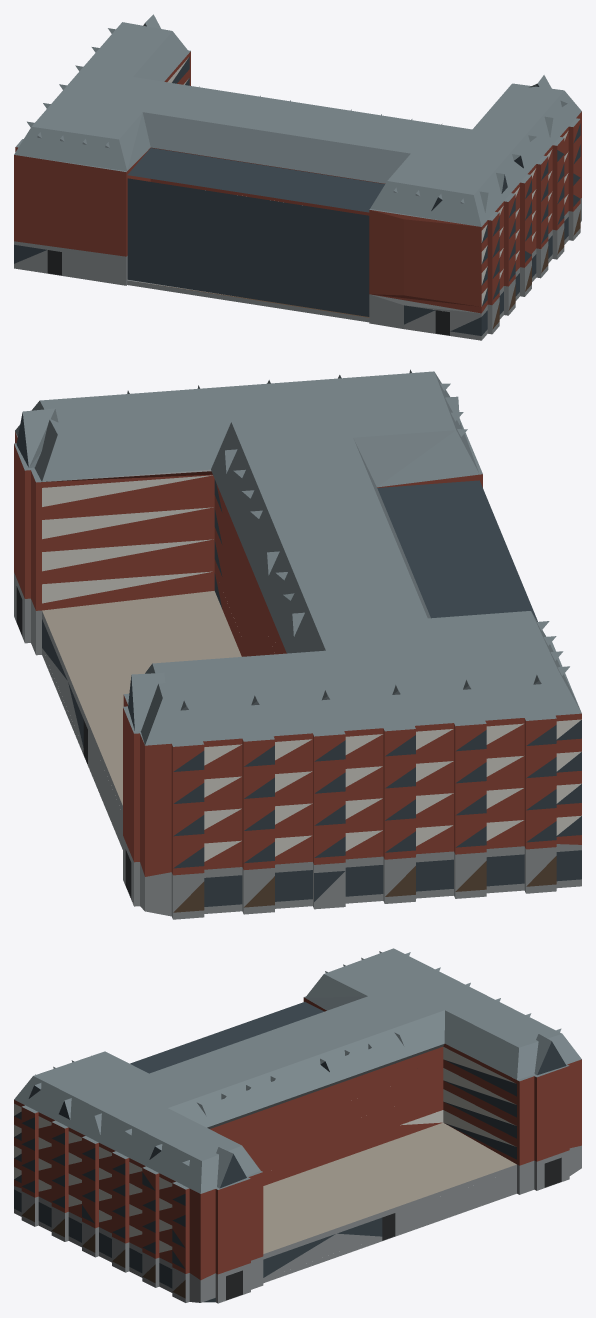
Rendered from hotel-boat-and-co.lod2.glb.
3 renders of one model, top to bottom at view 1: azimuth 30°, elevation 25°; view 2: azimuth 150°, elevation 25°; view 3: azimuth 270°, elevation 25°, orthographic. The views are drawn at different scales.
Parts seen in each view (by area): view 1: lod2; view 2: lod2; view 3: lod2.
Part boxes in pixels (box(x1,y1,x2,y2)): lod2: box(14, 14, 581, 340); lod2: box(14, 369, 581, 919); lod2: box(14, 948, 581, 1303).
Size of the model in its own units: 64.11 by 18.7 by 67.11.
